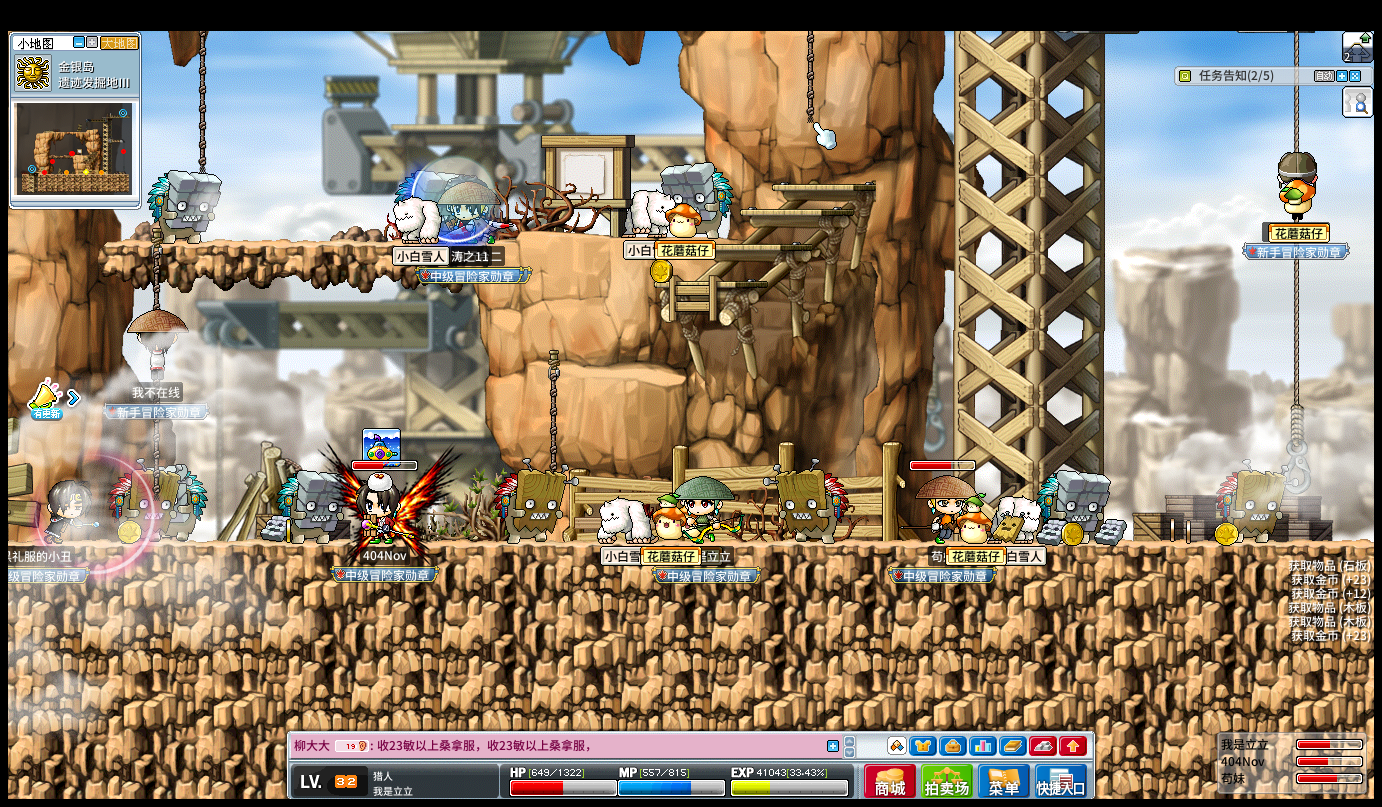floor: (102, 239, 482, 250), (578, 364, 688, 387), (607, 233, 754, 241), (649, 280, 768, 288), (739, 207, 853, 215), (770, 184, 878, 191), (712, 242, 809, 249)
monster: (1215, 460, 1299, 543), (492, 459, 572, 543), (770, 460, 849, 544), (109, 464, 184, 545), (145, 168, 223, 245), (1041, 471, 1111, 546), (278, 471, 341, 545), (149, 464, 208, 543), (692, 162, 733, 235), (403, 163, 445, 200)
rope: (546, 349, 561, 469), (544, 350, 558, 470), (1292, 256, 1302, 408), (198, 30, 207, 174), (805, 29, 815, 124), (1292, 30, 1299, 148), (152, 233, 163, 306), (1288, 404, 1305, 444)
